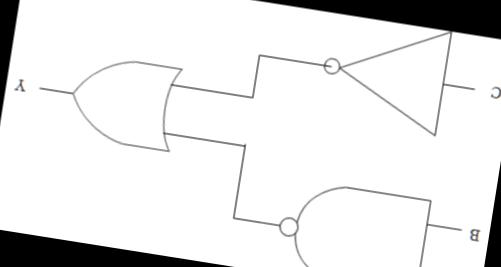nand: (269, 167, 445, 267)
not: (306, 10, 460, 141)
or: (59, 43, 190, 158)
